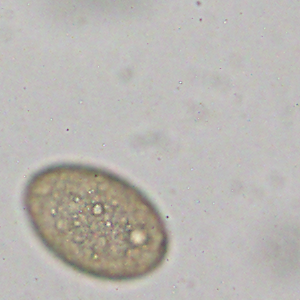Fasciola_hepatica_egg: (24, 161, 169, 281)
